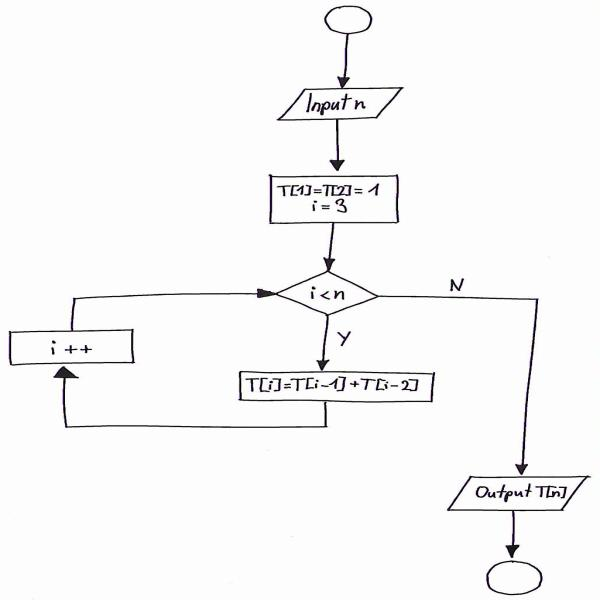arrow: (388, 280, 566, 478), (49, 362, 342, 439), (55, 286, 280, 326), (328, 30, 364, 86), (498, 514, 536, 565), (320, 120, 348, 176), (322, 222, 352, 274), (309, 316, 336, 373)
data: (445, 468, 593, 516), (270, 85, 411, 123)
decision: (253, 266, 390, 321)
process: (236, 364, 442, 410), (258, 171, 409, 231), (0, 324, 141, 372)
terminator: (312, 2, 386, 42), (486, 558, 545, 600)
text: (242, 376, 424, 399), (478, 480, 578, 503), (278, 179, 381, 199), (303, 92, 372, 116), (32, 336, 100, 359), (297, 280, 353, 305), (422, 273, 479, 295), (307, 202, 364, 218), (332, 327, 364, 351)
